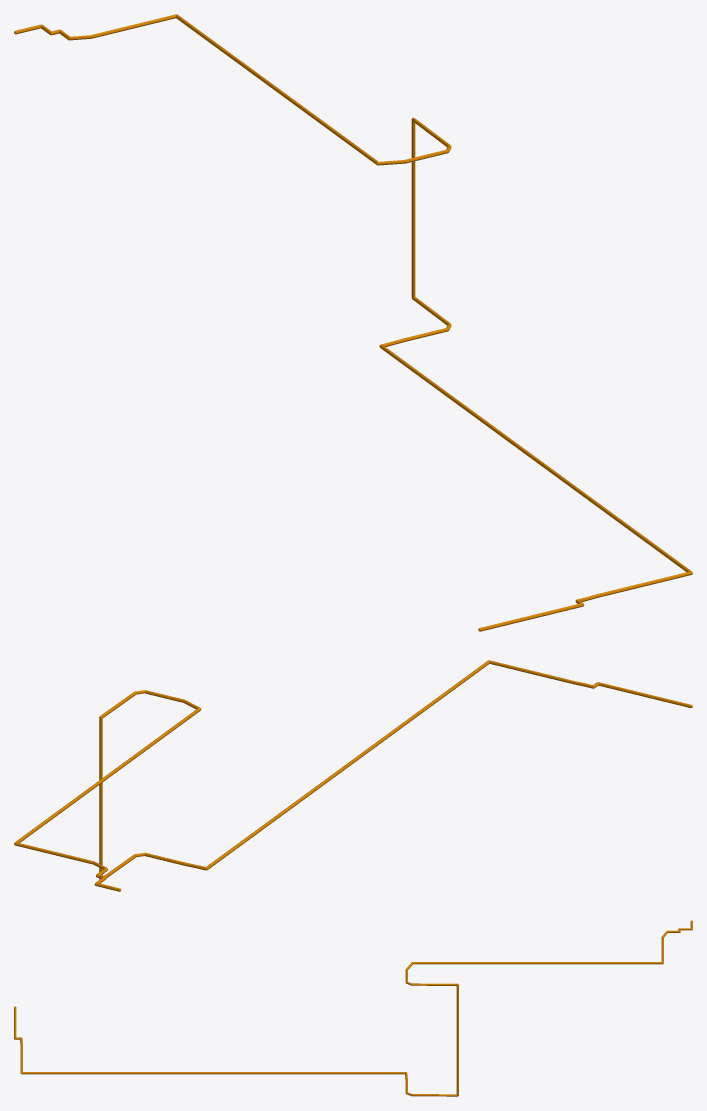
The picture shows the model from 3 angles, top to bottom: view 1: azimuth 30°, elevation 25°; view 2: azimuth 150°, elevation 25°; view 3: azimuth 270°, elevation 25°; orthographic projection. The views are drawn at different scales.
Bounding box in the file's own units: 1723 × 1020 × 5566.
